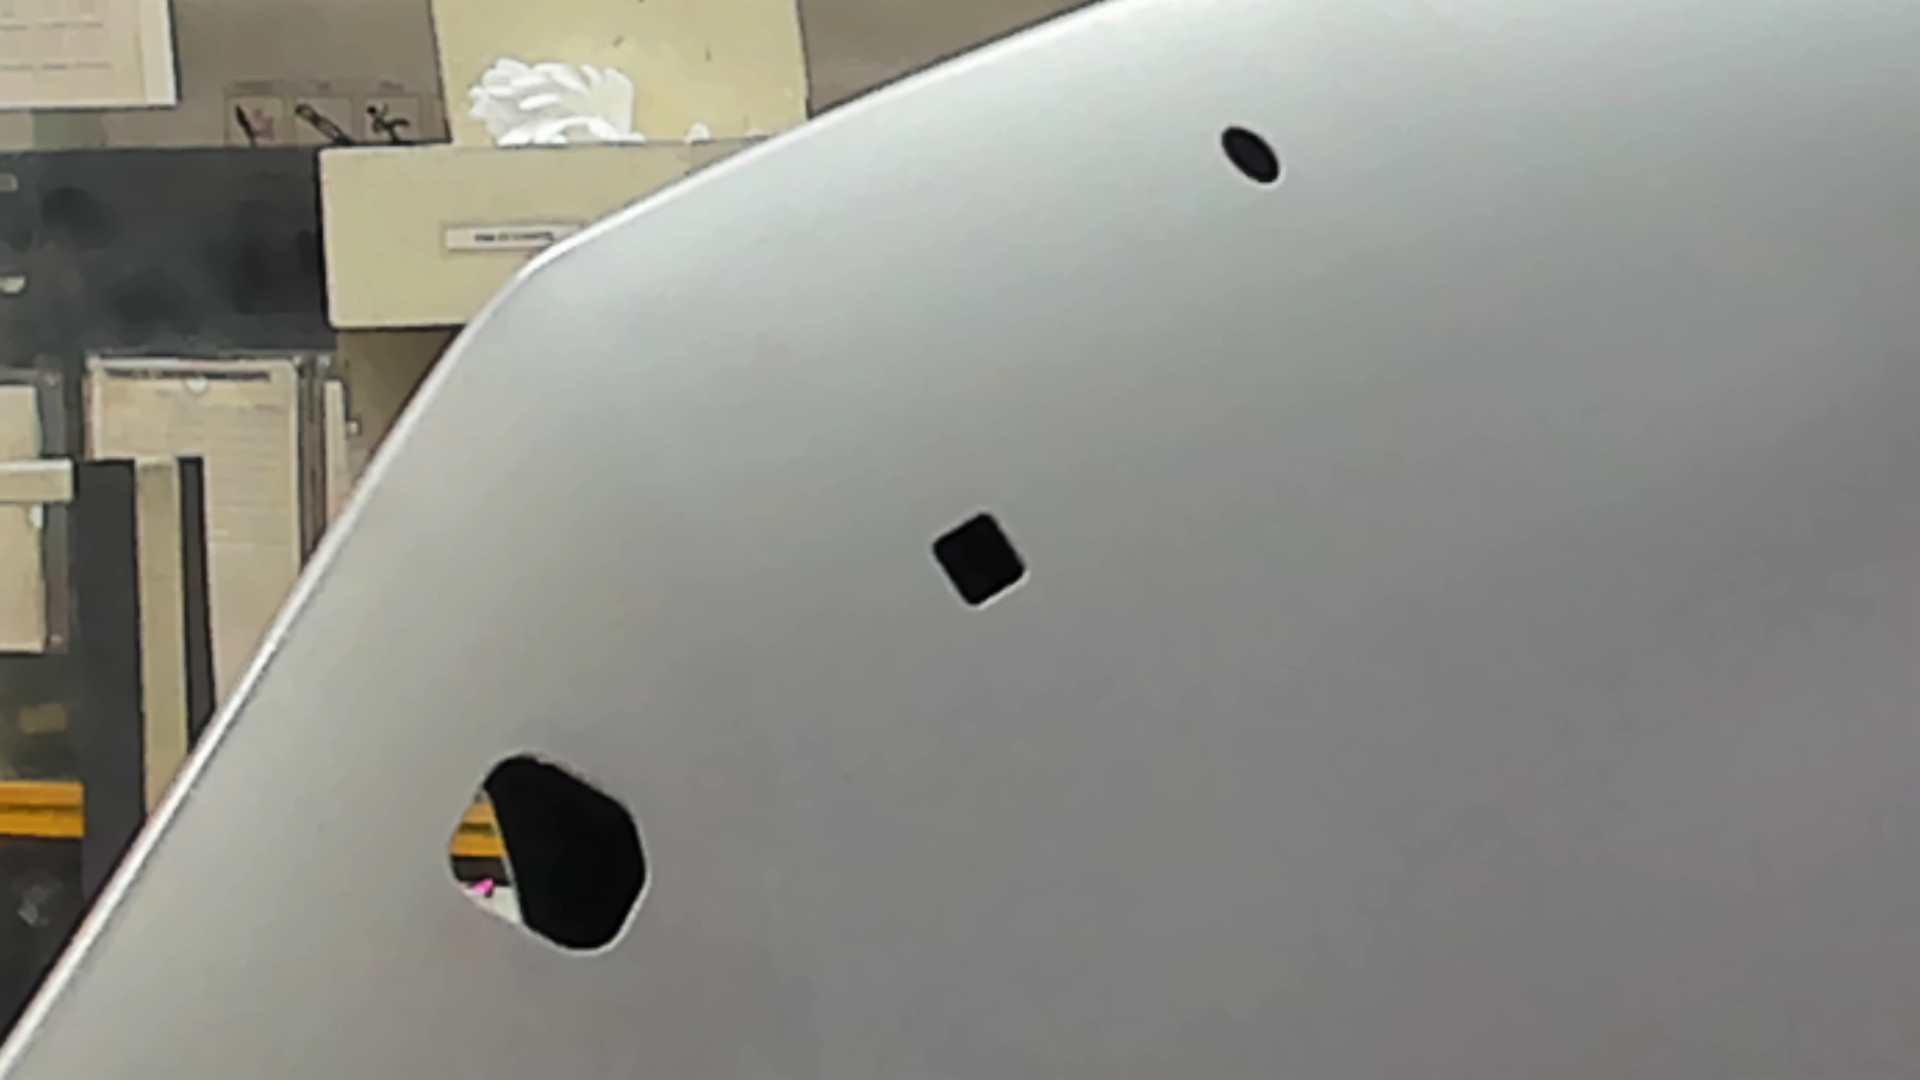Agujero: (931, 512, 1031, 611), (1218, 124, 1280, 183)
Agujerote: (444, 752, 651, 957)
